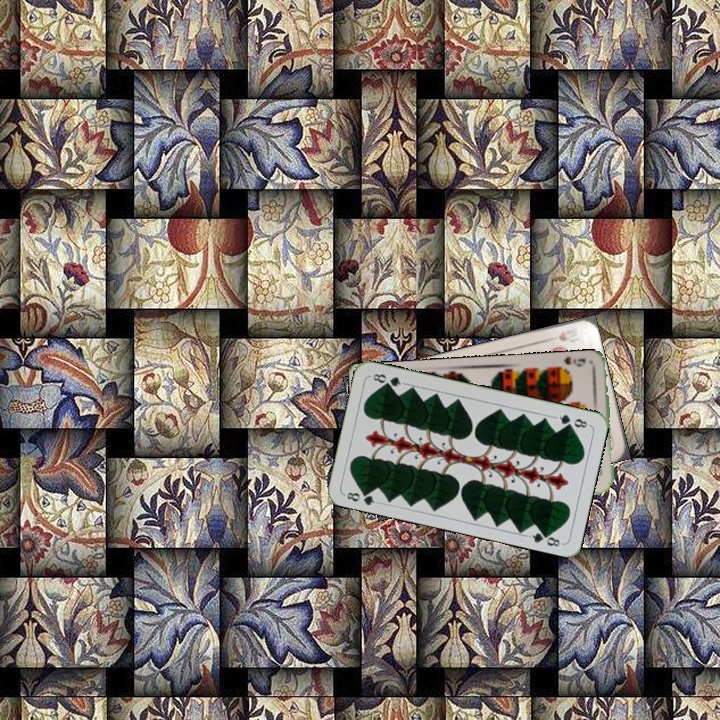G8: (341, 485, 381, 508), (552, 410, 592, 431)
H10: (543, 322, 583, 344)
S9: (551, 354, 588, 375)
